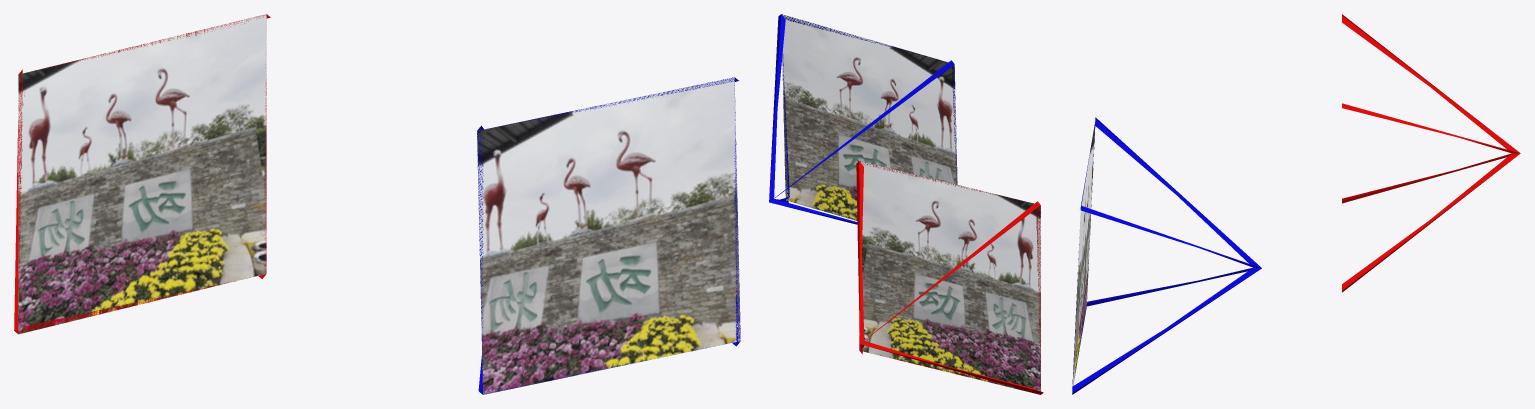
3 renders of one model, left to right at view 1: azimuth 30°, elevation 25°; view 2: azimuth 150°, elevation 25°; view 3: azimuth 270°, elevation 25°, orthographic. The views are drawn at different scales.
Parts seen in each view (by area): view 1: world; view 2: world; view 3: world.
Boxes of the visible parts, box(x1,y1,x2,y2) form: world: box(14, 14, 740, 394); world: box(769, 14, 1043, 394); world: box(1072, 14, 1520, 394).
Bounding box in the file's own units: 0.1096 × 0.0519 × 0.1082.
2 materials, 2 textured.
